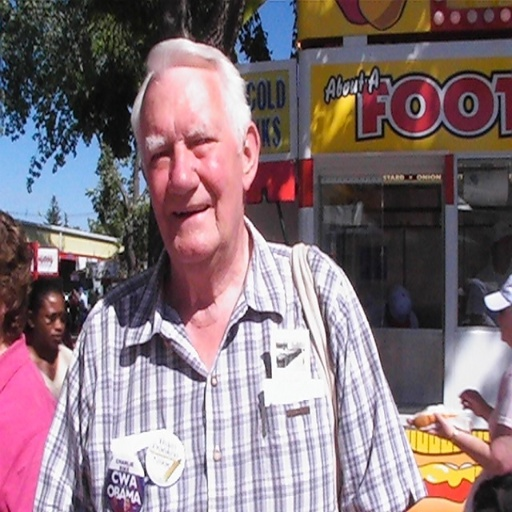hand: (417, 409, 453, 440), (460, 389, 483, 416)
